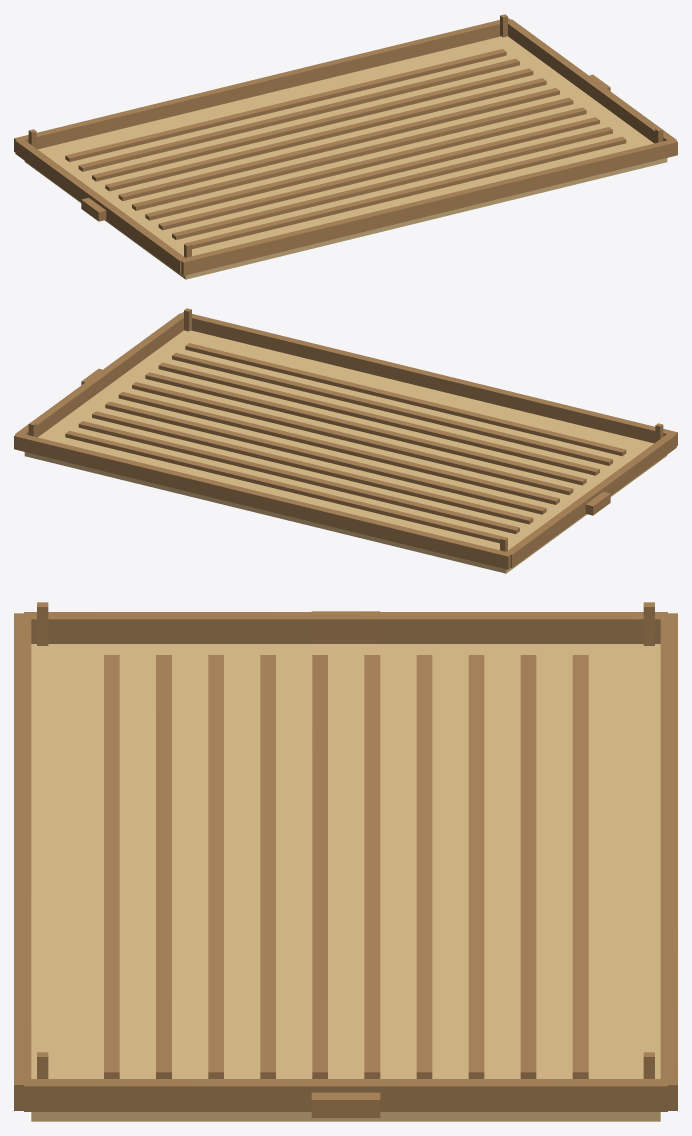
Rendered from field.source.glb.
The picture shows the model from 3 angles, top to bottom: view 1: azimuth 30°, elevation 25°; view 2: azimuth 150°, elevation 25°; view 3: azimuth 270°, elevation 25°; orthographic projection. The views are drawn at different scales.
Parts seen in each view (by area): view 1: field-field-soil-mesh, field-perimeter-berm-mesh (×4), field-furrow-4-mesh, field-furrow-7-mesh, field-furrow-3-mesh, field-furrow-1-mesh, field-furrow-2-mesh, field-furrow-5-mesh, field-furrow-6-mesh, field-furrow-8-mesh, field-furrow-9-mesh, field-furrow-10-mesh; view 2: field-field-soil-mesh, field-perimeter-berm-mesh (×4), field-furrow-3-mesh, field-furrow-7-mesh, field-furrow-2-mesh, field-furrow-6-mesh, field-furrow-4-mesh, field-furrow-8-mesh, field-furrow-10-mesh, field-furrow-5-mesh, field-furrow-9-mesh, field-furrow-1-mesh; view 3: field-field-soil-mesh, field-perimeter-berm-mesh (×4), field-furrow-1-mesh, field-furrow-2-mesh, field-furrow-3-mesh, field-furrow-4-mesh, field-furrow-5-mesh, field-furrow-6-mesh, field-furrow-7-mesh, field-furrow-8-mesh, field-furrow-9-mesh, field-furrow-10-mesh (+1 smaller).
Part boxes in pixels (x1,y1,x2,y2): field-field-soil-mesh: (24,36,667,279); field-perimeter-berm-mesh (×4): (14,18,677,275); field-furrow-4-mesh: (105,78,546,191); field-furrow-7-mesh: (145,107,586,220); field-furrow-3-mesh: (92,68,533,181); field-furrow-1-mesh: (65,49,506,161); field-furrow-2-mesh: (78,58,519,171); field-furrow-5-mesh: (118,88,559,200); field-furrow-6-mesh: (132,97,573,210); field-furrow-8-mesh: (158,117,599,230); field-furrow-9-mesh: (172,127,612,239); field-furrow-10-mesh: (185,136,626,248); field-field-soil-mesh: (24,330,667,573); field-perimeter-berm-mesh (×4): (14,312,677,569); field-furrow-3-mesh: (92,411,533,524); field-furrow-7-mesh: (145,372,586,485); field-furrow-2-mesh: (78,421,519,534); field-furrow-6-mesh: (132,382,573,494); field-furrow-4-mesh: (105,401,546,514); field-furrow-8-mesh: (158,362,599,475); field-furrow-10-mesh: (185,343,626,456); field-furrow-5-mesh: (118,392,559,504); field-furrow-9-mesh: (172,353,612,465); field-furrow-1-mesh: (65,430,506,543); field-field-soil-mesh: (31,644,660,1121); field-perimeter-berm-mesh (×4): (14,612,677,1111); field-furrow-1-mesh: (572,655,588,1078); field-furrow-2-mesh: (520,655,536,1078); field-furrow-3-mesh: (468,655,484,1078); field-furrow-4-mesh: (416,655,432,1078); field-furrow-5-mesh: (364,655,380,1078); field-furrow-6-mesh: (312,655,327,1078); field-furrow-7-mesh: (260,655,275,1078); field-furrow-8-mesh: (208,655,223,1078); field-furrow-9-mesh: (156,655,171,1078); field-furrow-10-mesh: (104,655,119,1078).
Bounding box in the file's own units: 4.04 × 0.24 × 2.32.
